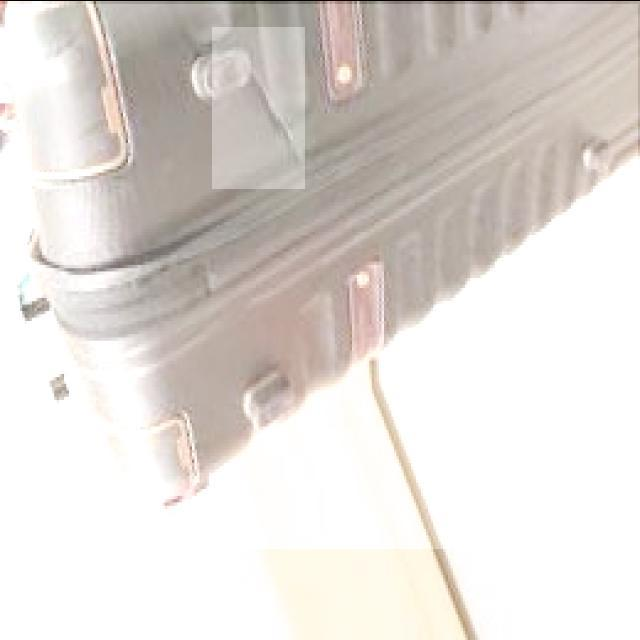Damage-bag: (211, 26, 305, 188)
